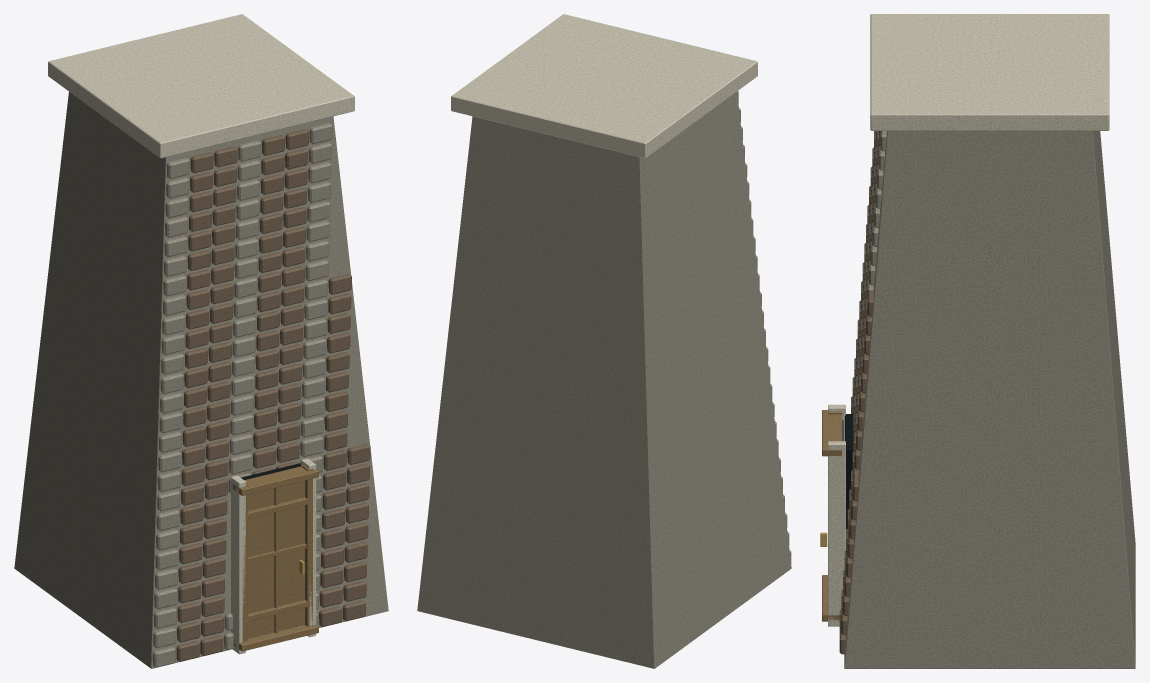
The model's file is TOWERB2_lod0.glb.
3 renders of one model, left to right at view 1: azimuth 30°, elevation 25°; view 2: azimuth 150°, elevation 25°; view 3: azimuth 270°, elevation 25°, orthographic. The views are drawn at different scales.
Parts seen in each view (by area): view 1: TOWERB2_LOD0; view 2: TOWERB2_LOD0; view 3: TOWERB2_LOD0.
Boxes of the visible parts, left/top/right/bottom form: TOWERB2_LOD0: left=14, top=14, right=388, bottom=668; TOWERB2_LOD0: left=417, top=14, right=791, bottom=668; TOWERB2_LOD0: left=820, top=14, right=1135, bottom=668.
Size of the model in its own units: 4 by 8.23 by 4.33.
Materials: 7 (4 with a texture image).
